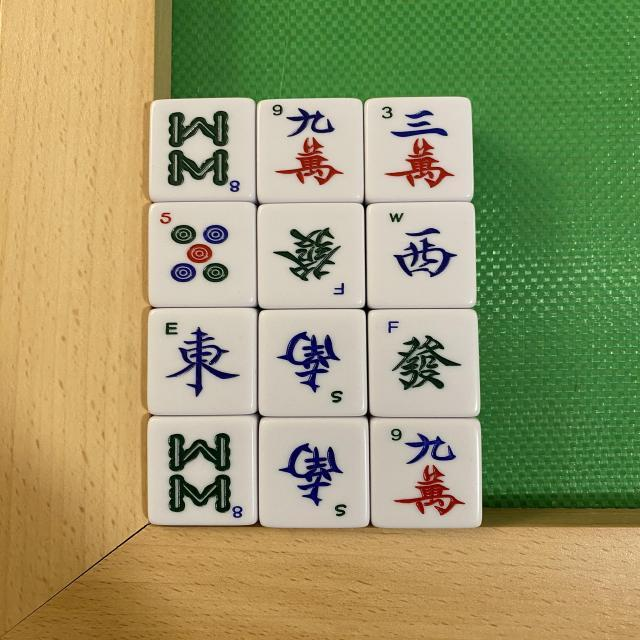hdg: (369, 307, 479, 418), (258, 205, 363, 312)
hwe: (148, 308, 257, 417)
hws: (258, 419, 366, 532), (260, 312, 366, 416)
hww: (368, 200, 474, 306)
sb8: (147, 419, 256, 529), (152, 99, 255, 201)
sc3: (368, 99, 470, 202)
sc9: (371, 414, 478, 528), (260, 100, 364, 204)
sd5: (146, 206, 254, 310)
